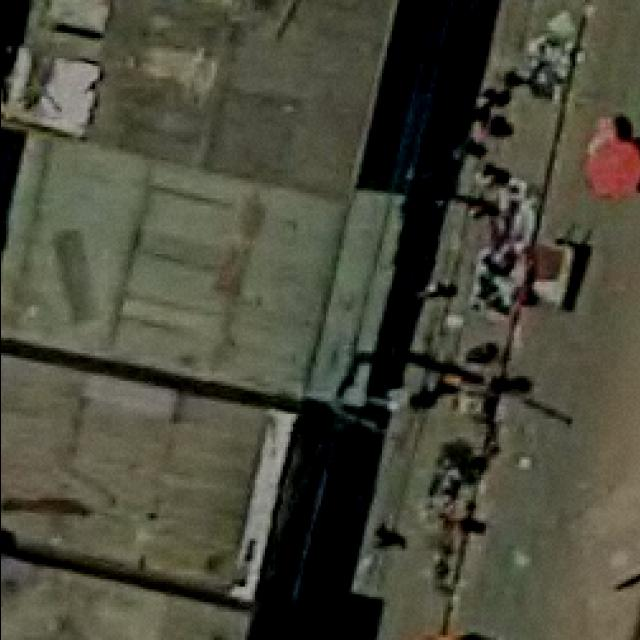vendedor_ambulante: (584, 124, 640, 210)
